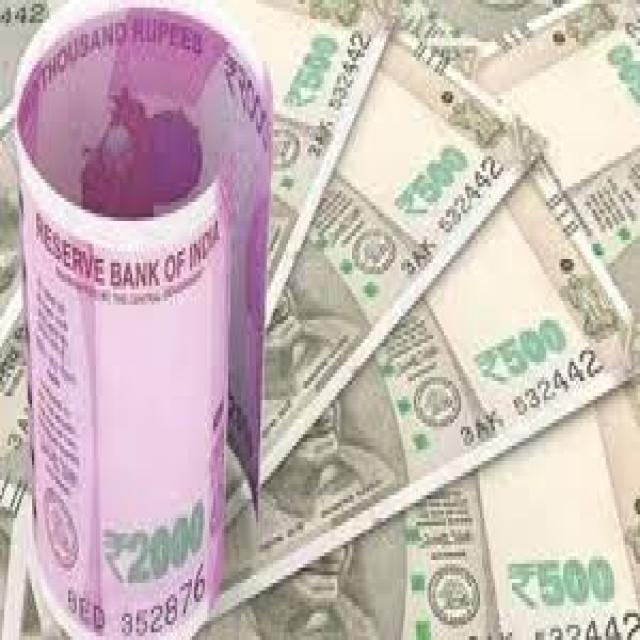money: (0, 0, 275, 632)
